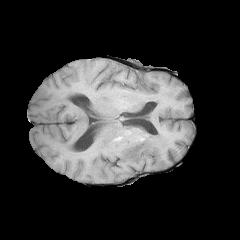glioma: (90, 126, 172, 181)
